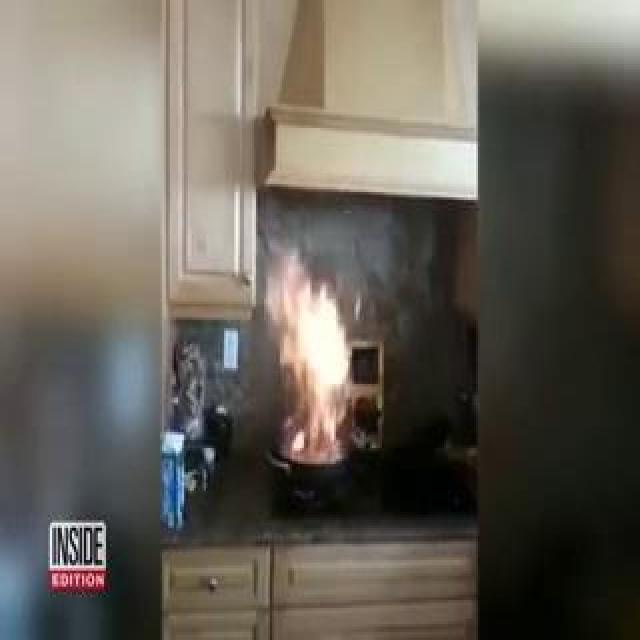Fire: (274, 246, 364, 470)
